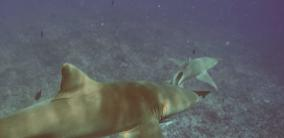Shark -Selachimorpha-: (0, 61, 199, 138), (163, 54, 220, 90)
